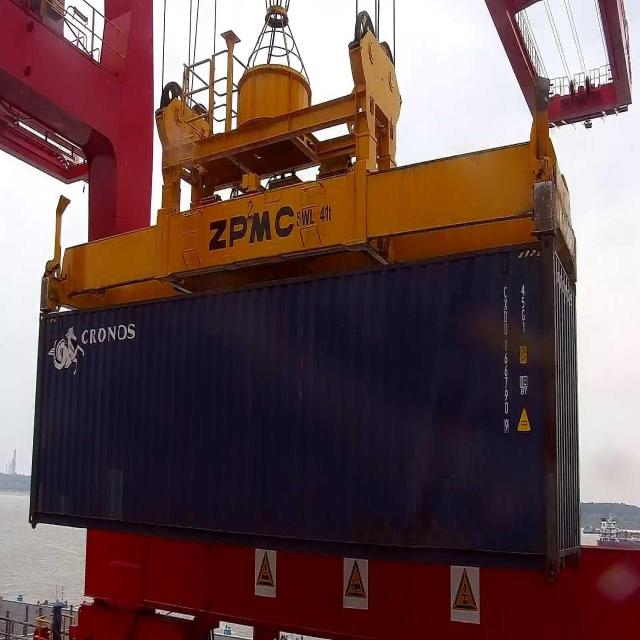dent: (411, 291, 468, 535)
